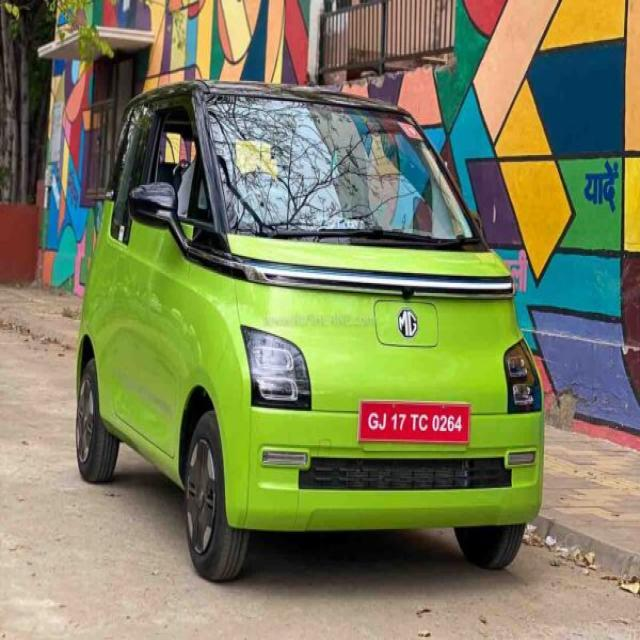plate: (356, 399, 471, 443)
